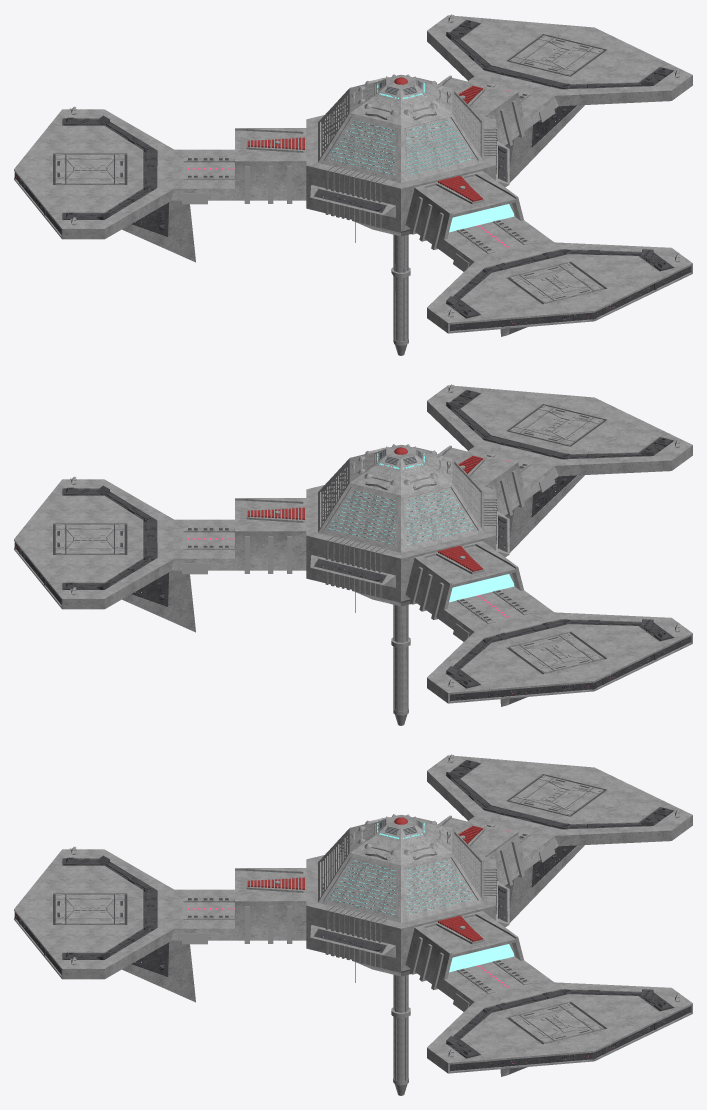
The model's file is sw_xq6_platform.glb.
3 renders of one model, top to bottom at view 1: azimuth 30°, elevation 25°; view 2: azimuth 150°, elevation 25°; view 3: azimuth 270°, elevation 25°, orthographic.
Parts seen in each view (by area): view 1: Platforms_0, MainSection_0, Platforms_1, PlatformGreebles2_4, MainSectionGreebles_0 (×2), MainSection2_0, PlatformGreebles2_0, PlatformGreebles_1, MainSectionGreebles_1, Platforms_2, MainSectionGreebles2_0, MainSectionGreebles4_1; view 2: Platforms_0, MainSection_0, Platforms_1, PlatformGreebles2_4, MainSectionGreebles_0 (×2), MainSection2_0, PlatformGreebles2_0, PlatformGreebles_1, Platforms_2, MainSectionGreebles_1, MainSectionGreebles2_0, MainSectionGreebles4_1; view 3: Platforms_0, MainSection_0, Platforms_1, PlatformGreebles2_4, MainSectionGreebles_0 (×2), MainSection2_0, PlatformGreebles2_0, PlatformGreebles_1, MainSectionGreebles_1, Platforms_2, MainSectionGreebles2_0, MainSectionGreebles4_1.
Part boxes in pixels (box(x1,y1,x2,y2)): Platforms_0: box(14, 14, 692, 336); MainSection_0: box(306, 74, 495, 236); Platforms_1: box(16, 20, 690, 331); PlatformGreebles2_4: box(182, 100, 555, 271); MainSectionGreebles_0 (×2): box(322, 74, 479, 174); MainSection2_0: box(391, 234, 410, 355); PlatformGreebles2_0: box(14, 106, 686, 328); PlatformGreebles_1: box(247, 85, 482, 201); MainSectionGreebles_1: box(329, 83, 472, 174); Platforms_2: box(449, 204, 514, 232); MainSectionGreebles2_0: box(310, 141, 509, 217); MainSectionGreebles4_1: box(316, 146, 506, 212); Platforms_0: box(14, 384, 692, 706); MainSection_0: box(306, 444, 495, 606); Platforms_1: box(16, 390, 690, 701); PlatformGreebles2_4: box(182, 470, 555, 641); MainSectionGreebles_0 (×2): box(322, 444, 479, 544); MainSection2_0: box(391, 604, 410, 725); PlatformGreebles2_0: box(14, 476, 686, 698); PlatformGreebles_1: box(247, 455, 482, 571); Platforms_2: box(449, 574, 514, 602); MainSectionGreebles_1: box(329, 453, 473, 544); MainSectionGreebles2_0: box(310, 511, 509, 587); MainSectionGreebles4_1: box(316, 516, 506, 582); Platforms_0: box(14, 754, 692, 1076); MainSection_0: box(306, 814, 495, 976); Platforms_1: box(16, 760, 690, 1070); PlatformGreebles2_4: box(182, 840, 555, 1011); MainSectionGreebles_0 (×2): box(322, 814, 479, 914); MainSection2_0: box(391, 974, 410, 1095); PlatformGreebles2_0: box(14, 846, 686, 1068); PlatformGreebles_1: box(247, 825, 482, 941); MainSectionGreebles_1: box(332, 823, 473, 914); Platforms_2: box(449, 944, 514, 972); MainSectionGreebles2_0: box(310, 881, 509, 957); MainSectionGreebles4_1: box(316, 886, 506, 952).
Bounding box in the file's own units: 1.75 × 0.7323 × 1.63.
8 materials, 3 textured.
